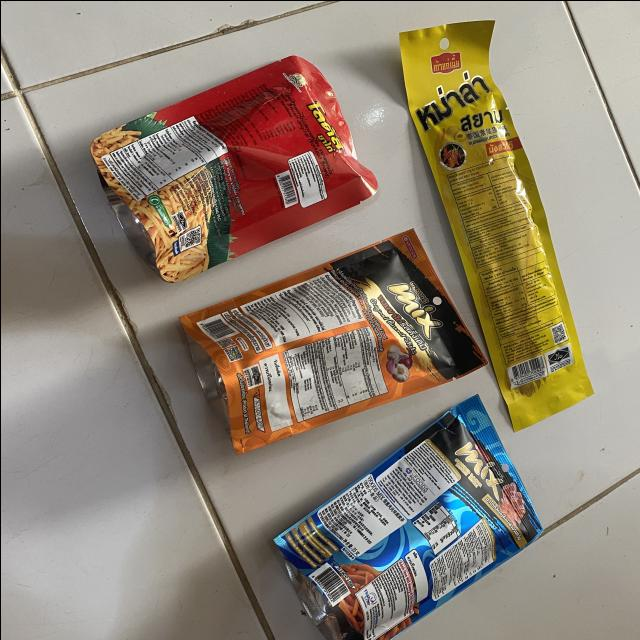plastik: (399, 19, 593, 430), (179, 230, 486, 453), (274, 394, 540, 640), (89, 55, 376, 281)
